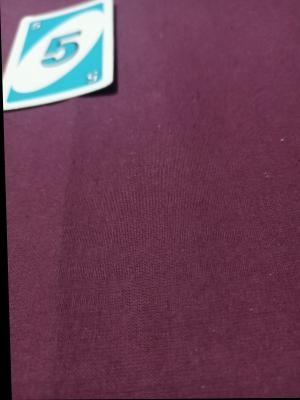blue: (23, 19, 103, 84)
num_5: (82, 66, 102, 87), (29, 20, 43, 35)
